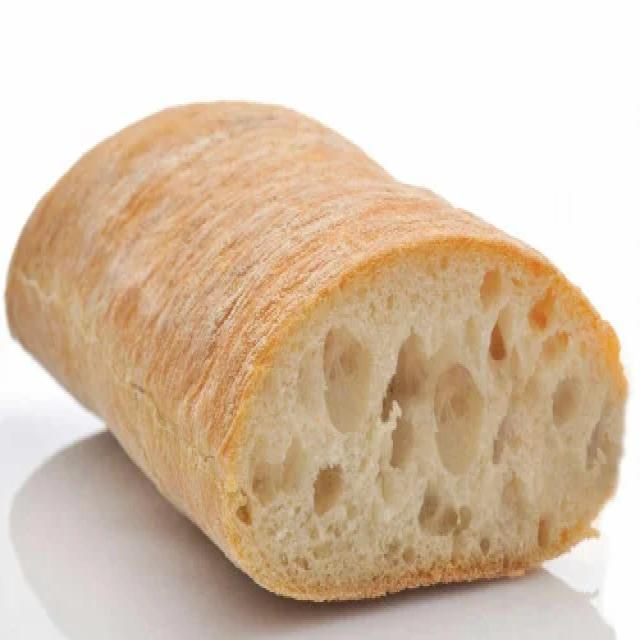Ciabatta: (6, 106, 626, 600)
